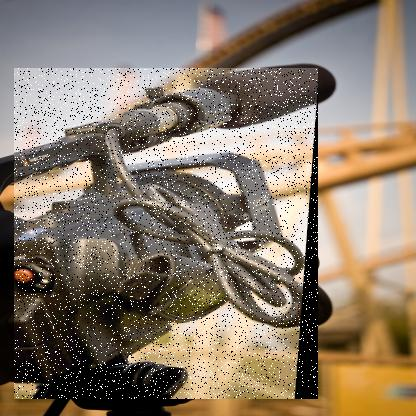Camera: (15, 69, 320, 401)
